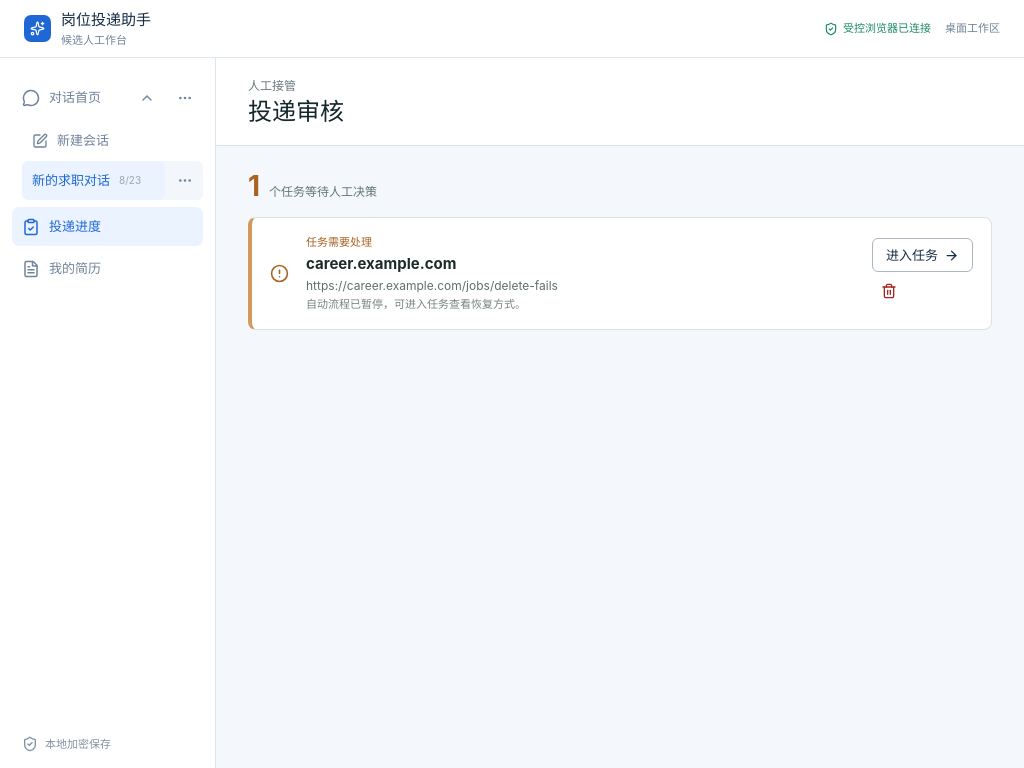
Test: ProfileApplicationWorkspace › keeps the task visible when deletion fails
Click the button named "删除任务：career.example.com". click: (889, 292)
box: [872, 274, 906, 308]
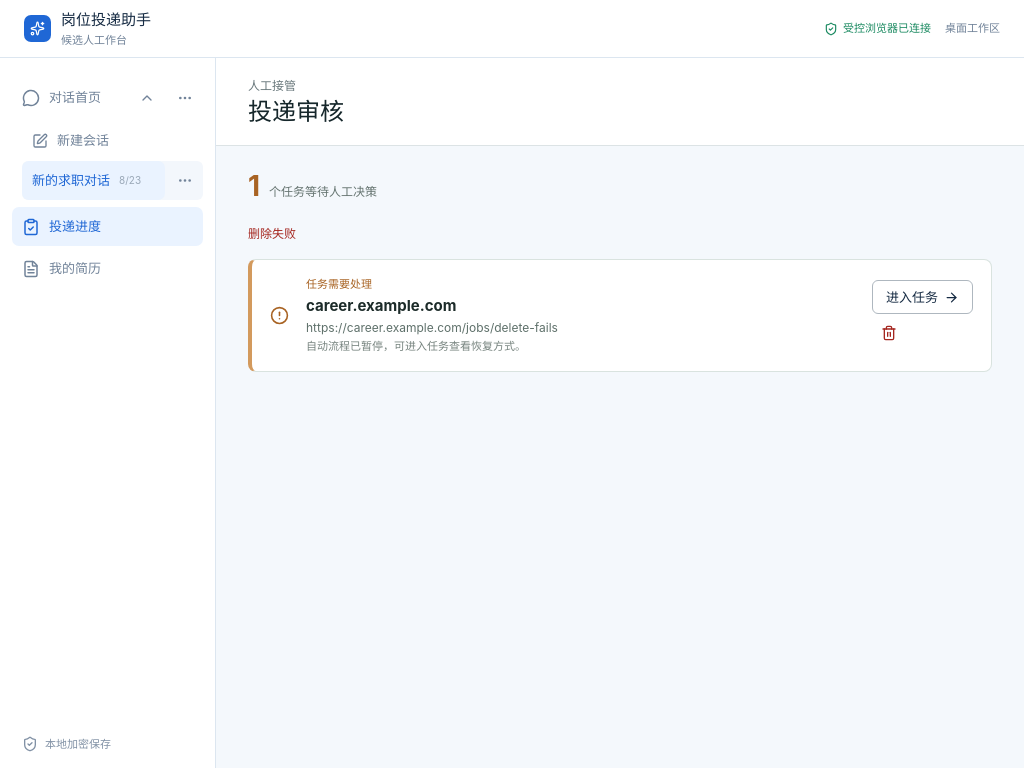
Expected: the message reads "删除失败", [248, 226, 296, 241]
